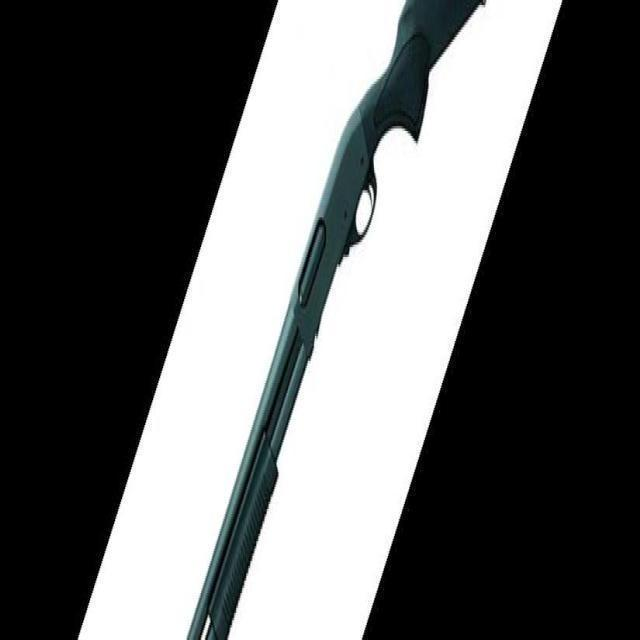Rifle: (186, 0, 488, 640)
